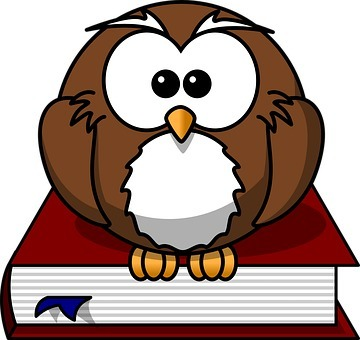bird: (15, 2, 337, 287)
